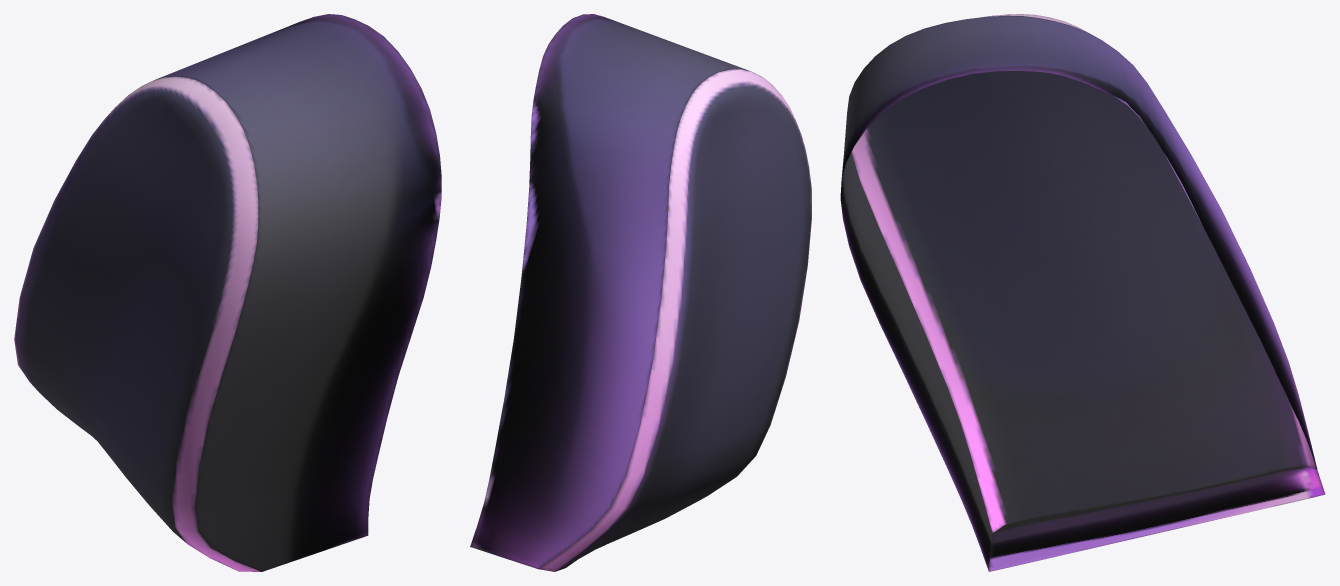
Rendered from oculus_quest_plus_controller_right_grip.obj.
The picture shows the model from 3 angles, left to right: view 1: azimuth 30°, elevation 25°; view 2: azimuth 150°, elevation 25°; view 3: azimuth 270°, elevation 25°; orthographic projection. The views are drawn at different scales.
Visible parts, largest first — view 1: oculus_quest_plus_controller_right_grip; view 2: oculus_quest_plus_controller_right_grip; view 3: oculus_quest_plus_controller_right_grip.
Boxes of the visible parts, x1,y1,x2,y2 form: oculus_quest_plus_controller_right_grip: (14,14,441,571); oculus_quest_plus_controller_right_grip: (470,14,811,571); oculus_quest_plus_controller_right_grip: (840,14,1325,571).
Size of the model in its own units: 0.0119 by 0.0252 by 0.0215.
Materials: 1 (1 with a texture image).
